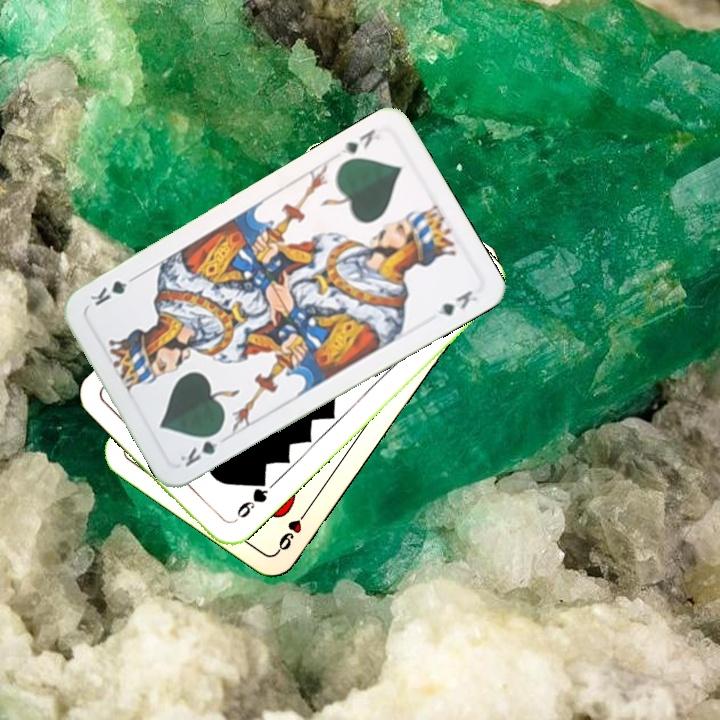G9: (232, 475, 271, 521)
GK: (176, 426, 230, 470), (337, 125, 383, 157)
H9: (273, 503, 312, 555)
